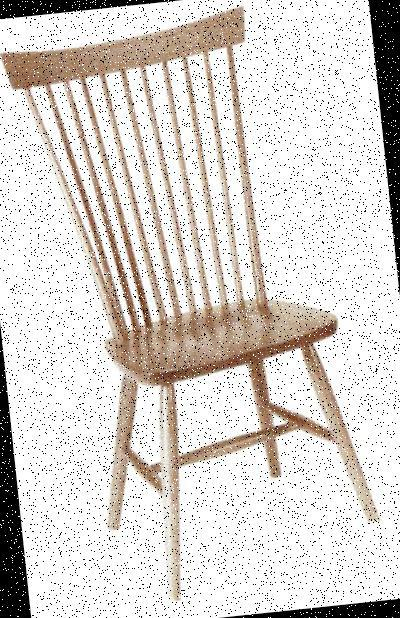Silla: (11, 15, 386, 608)
